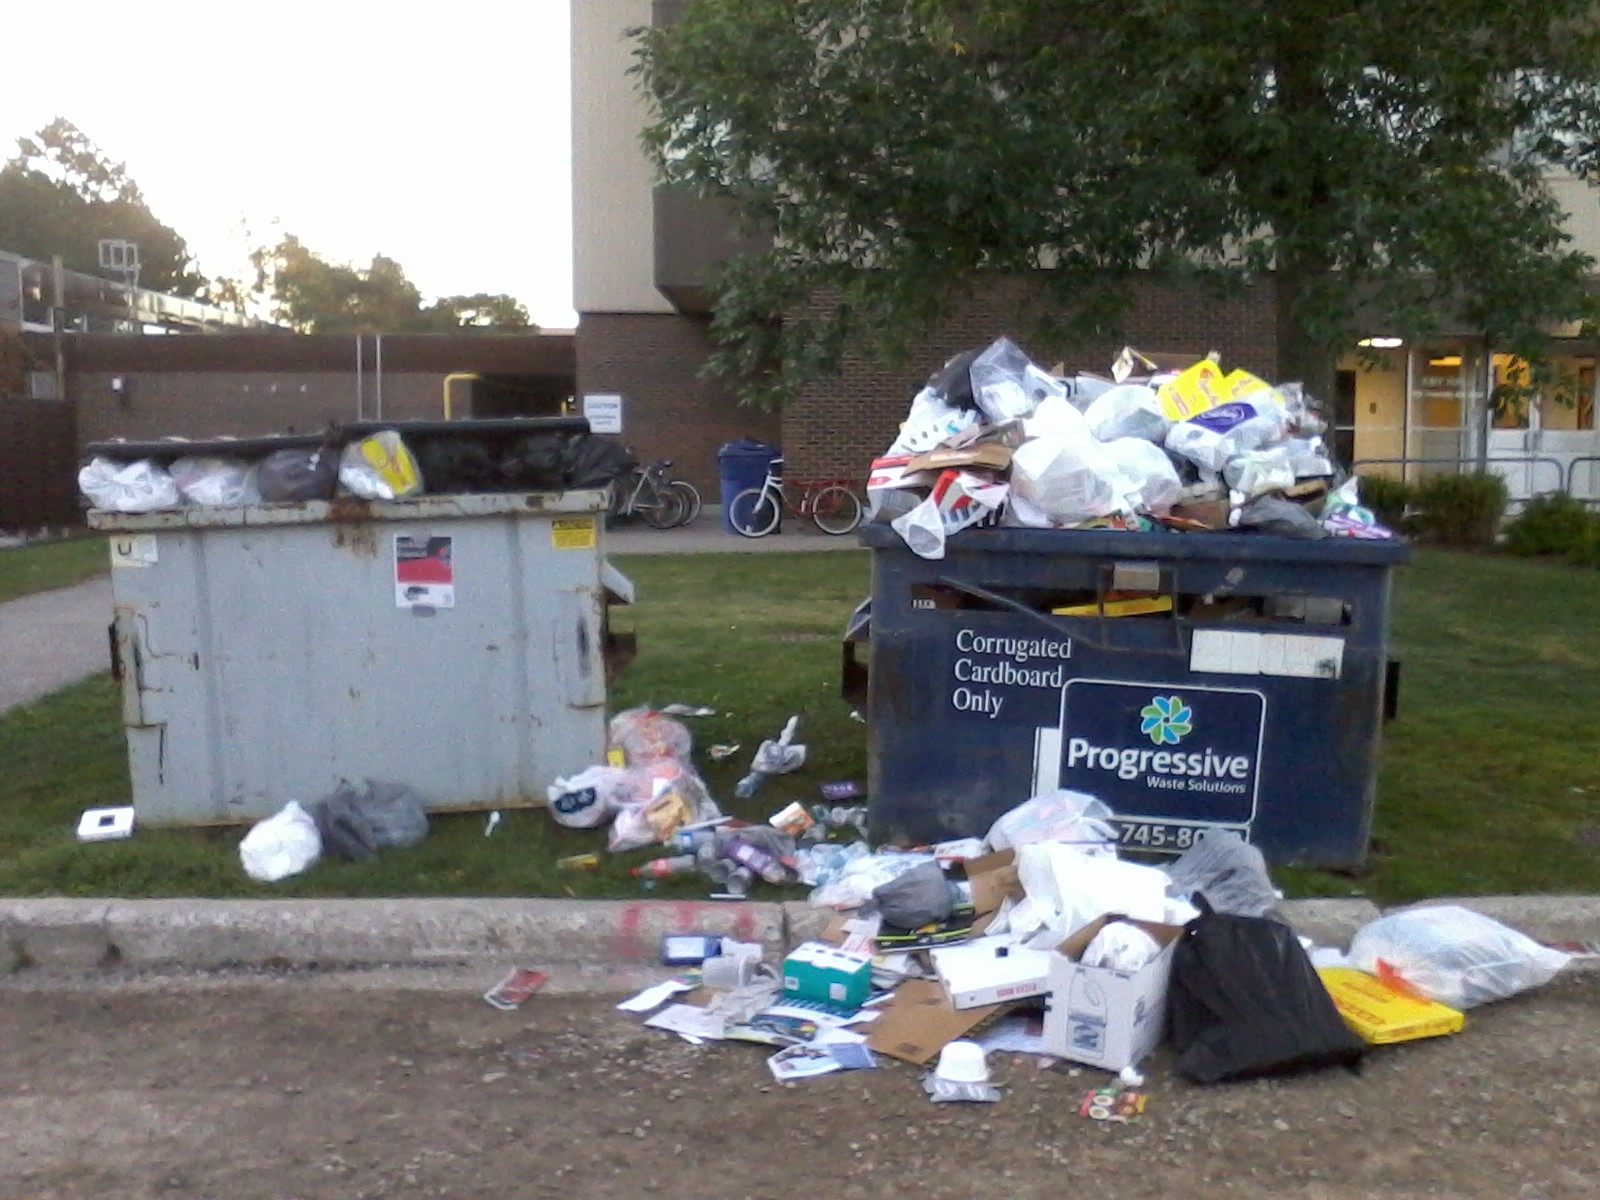Dumpster: (66, 424, 659, 818), (831, 482, 1414, 882)
